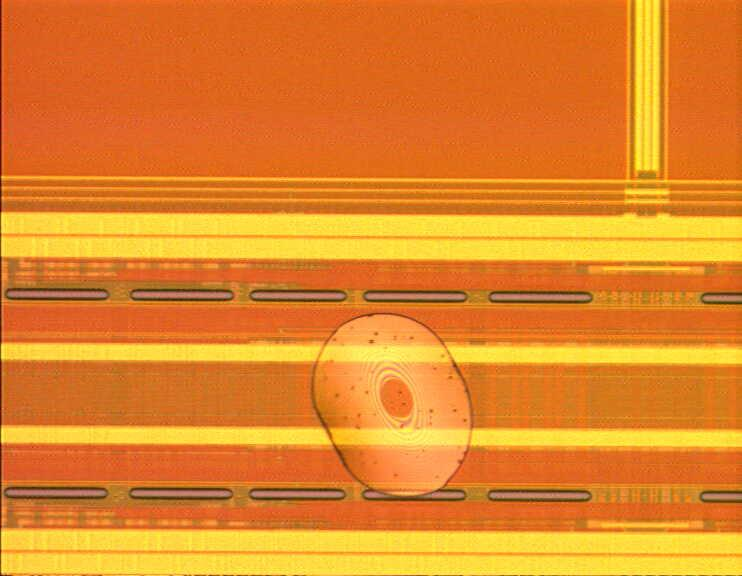PIQ PARTICLE: (305, 305, 480, 509)
